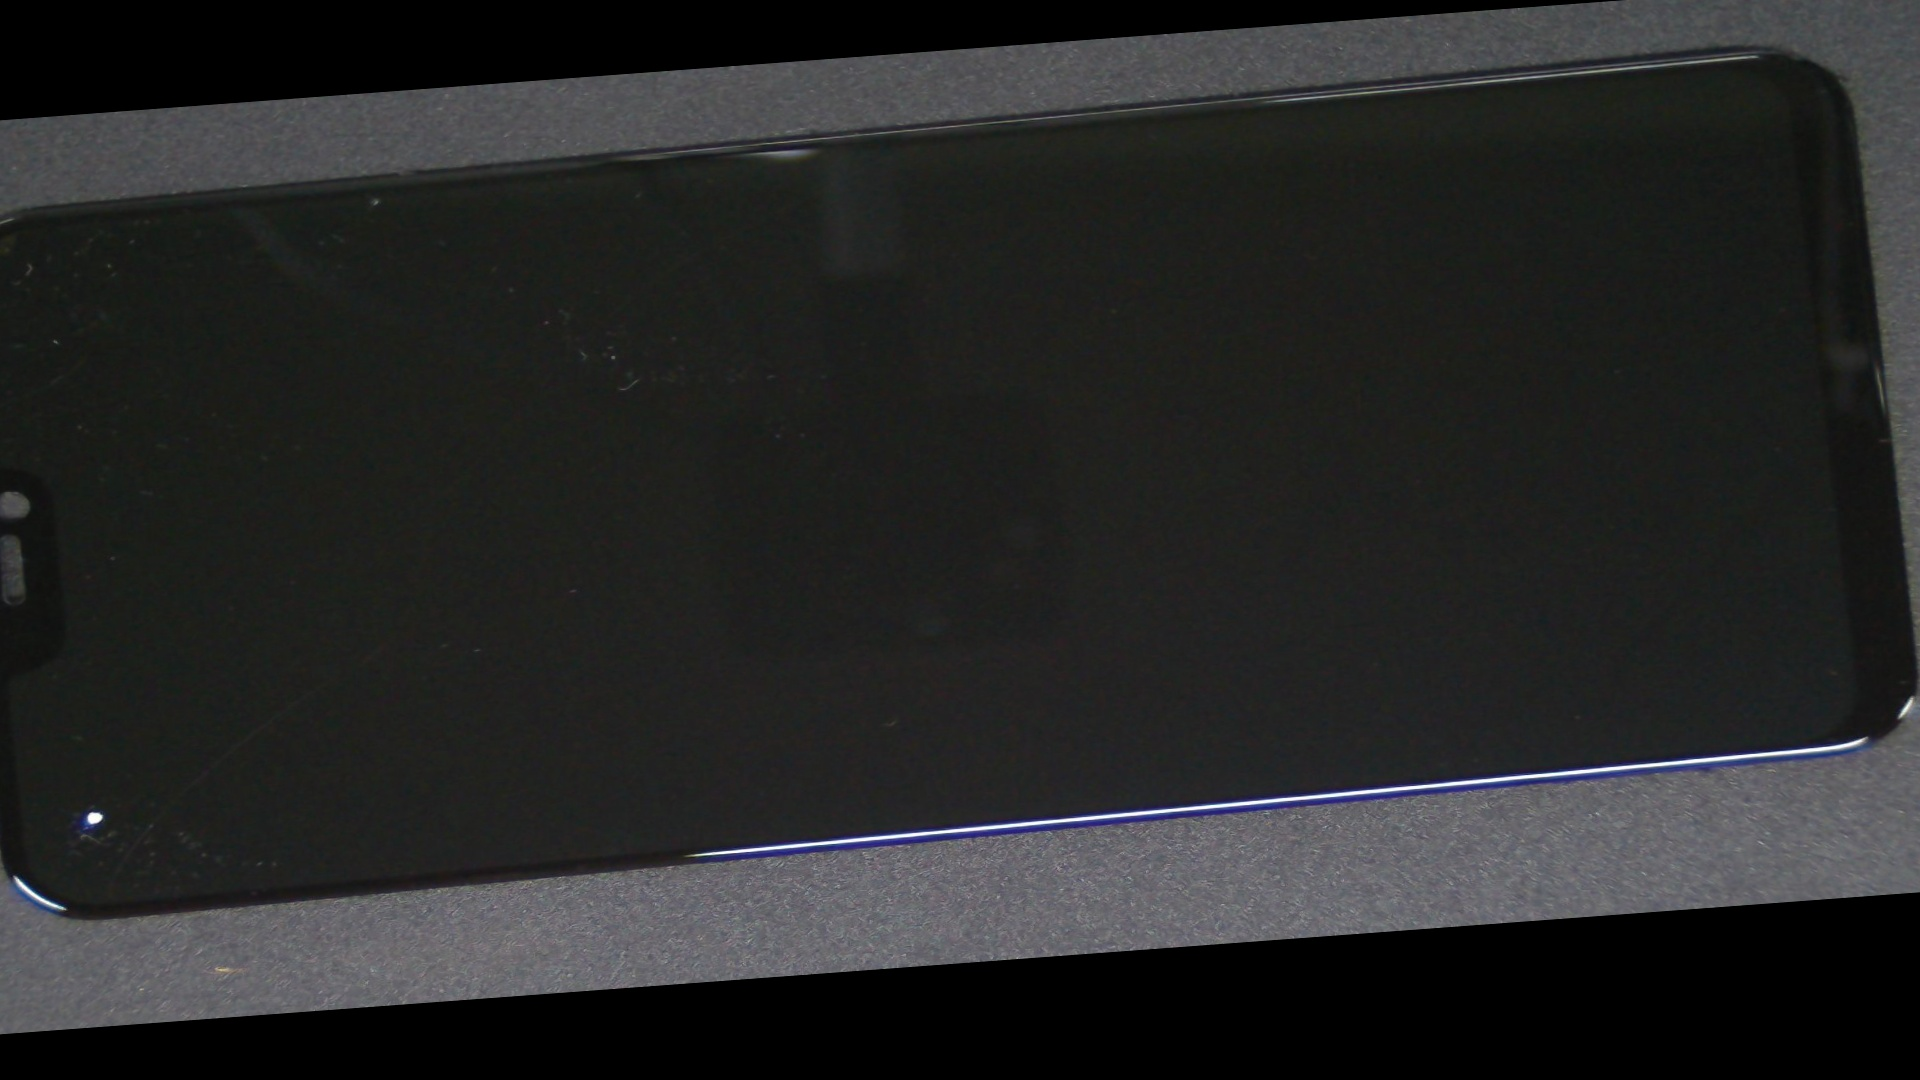oil: (0, 456, 210, 1033)
